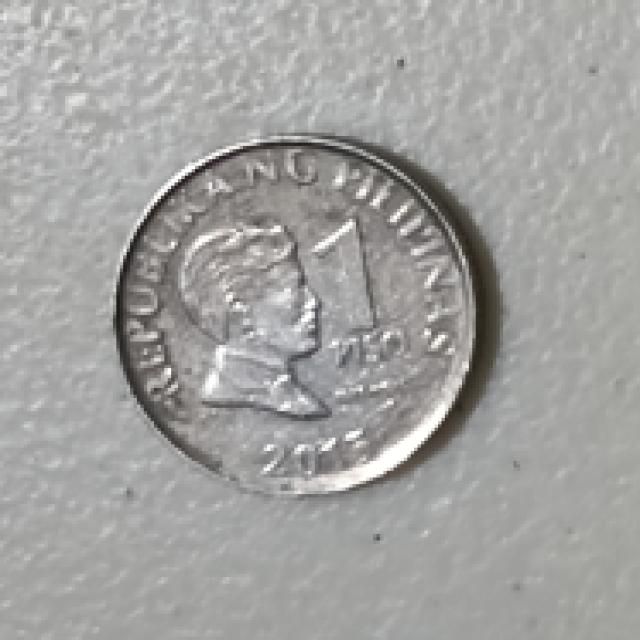1_peso: (116, 136, 479, 494)
